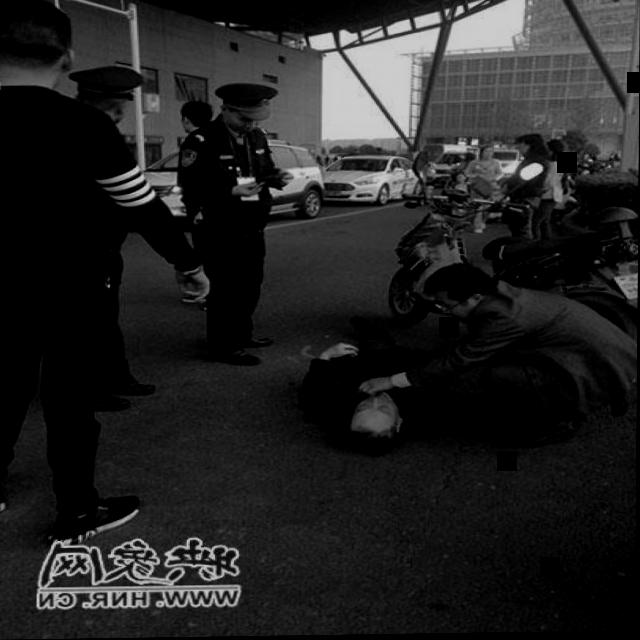Fall-Detected: (290, 311, 473, 464)
